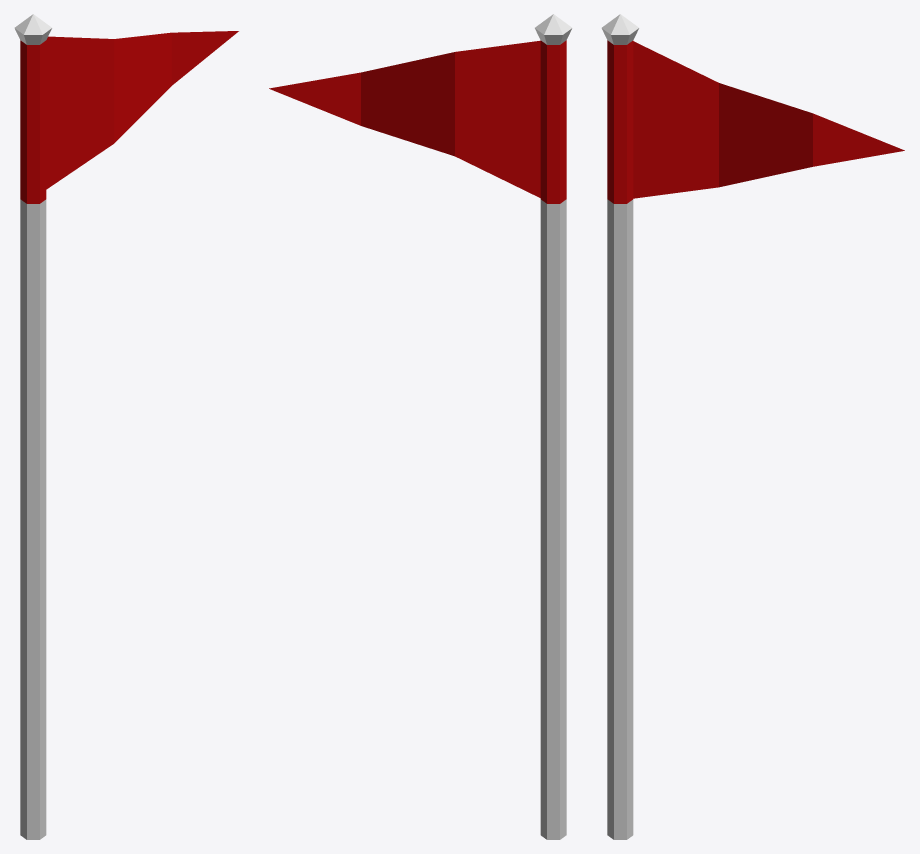
File: golf-flag_01.fbx
3 views of the same model, side by side, from view 1: azimuth 30°, elevation 25°; view 2: azimuth 150°, elevation 25°; view 3: azimuth 330°, elevation 25° (orthographic).
Visible parts, largest first — view 1: golf-flag_01, golf-flag_01-2; view 2: golf-flag_01, golf-flag_01-2; view 3: golf-flag_01, golf-flag_01-2.
Part boxes in pixels (x1=…): golf-flag_01: x1=14, y1=14, x2=51, y2=839; golf-flag_01-2: x1=46, y1=31, x2=238, y2=189; golf-flag_01: x1=535, y1=14, x2=572, y2=839; golf-flag_01-2: x1=269, y1=40, x2=540, y2=197; golf-flag_01: x1=601, y1=14, x2=638, y2=839; golf-flag_01-2: x1=633, y1=41, x2=904, y2=198.
Size of the model in its own units: 68.43 by 207 by 22.31.
